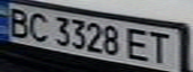2: (84, 20, 106, 55)
3: (48, 14, 72, 48), (66, 17, 87, 52)
8: (103, 23, 124, 57)
B: (3, 6, 33, 38)
C: (24, 10, 51, 42)
E: (124, 26, 154, 63)
T: (145, 29, 175, 64)
